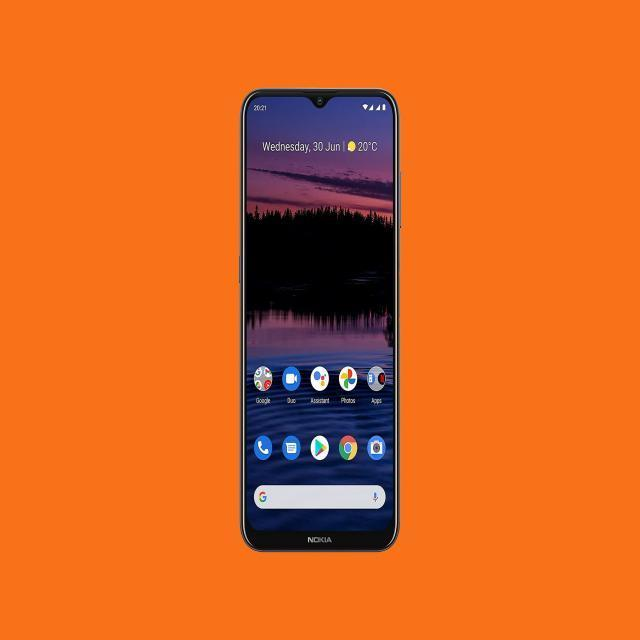Phone: (237, 85, 403, 558)
